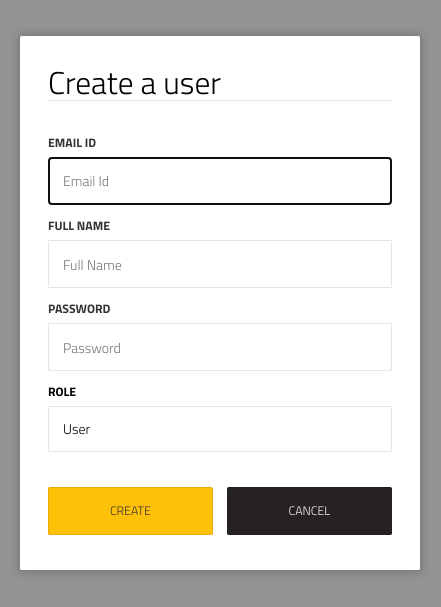
Test: <UserForm/> › should show error messages if id is not a valid email
Type "test" into the field with placeholder "Email Id". click: (220, 181)
box: [48,157,392,205]
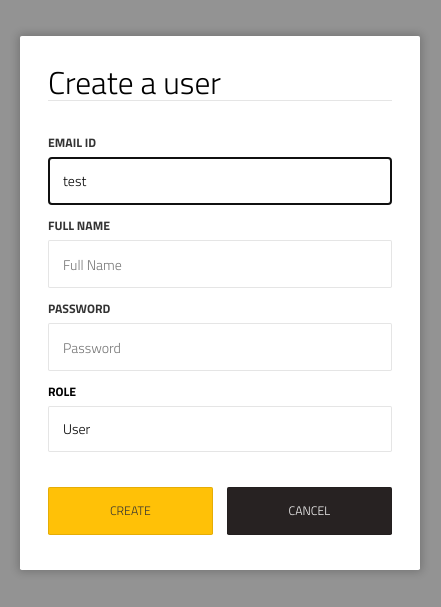
Click the button "Create". click: click(130, 511)
box: [48,487,213,535]
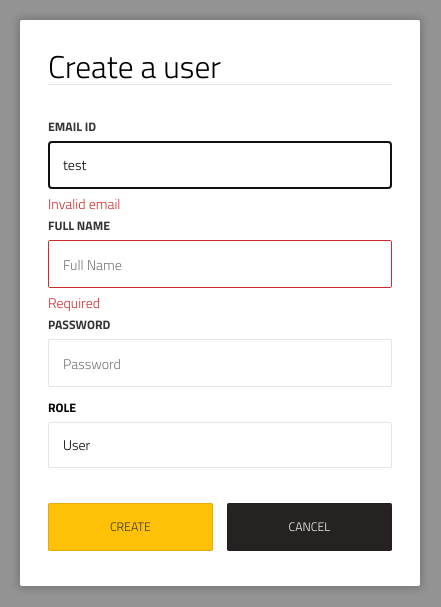
Result: the text with class "error-text" reads "Invalid email" at [48,193,120,214]
